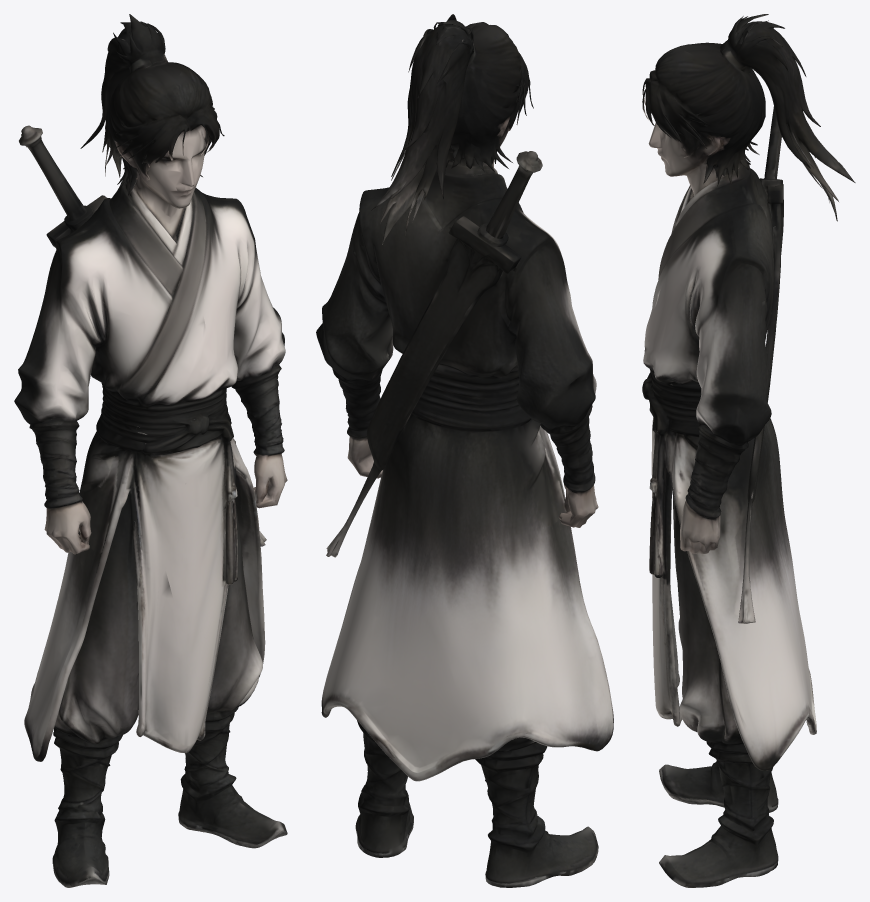
3 views of the same model, side by side, from view 1: azimuth 30°, elevation 25°; view 2: azimuth 150°, elevation 25°; view 3: azimuth 270°, elevation 25° (orthographic). The views are drawn at different scales.
Visible parts, largest first — view 1: node_0; view 2: node_0; view 3: node_0.
Part boxes in pixels (x1,y1,x2,y2): node_0: (14,14,287,887); node_0: (316,14,613,887); node_0: (642,14,855,887).
Size of the model in its own units: 0.3941 by 1.15 by 0.2706.
1 material, 1 textured.
